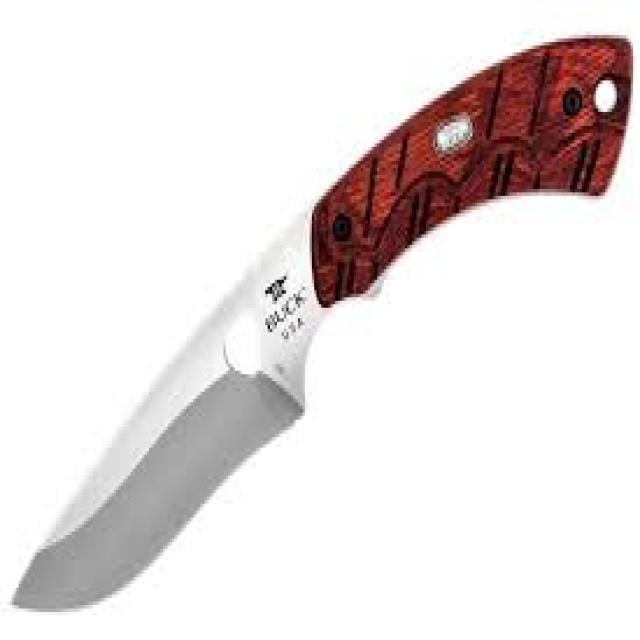knives: (7, 24, 635, 619)
